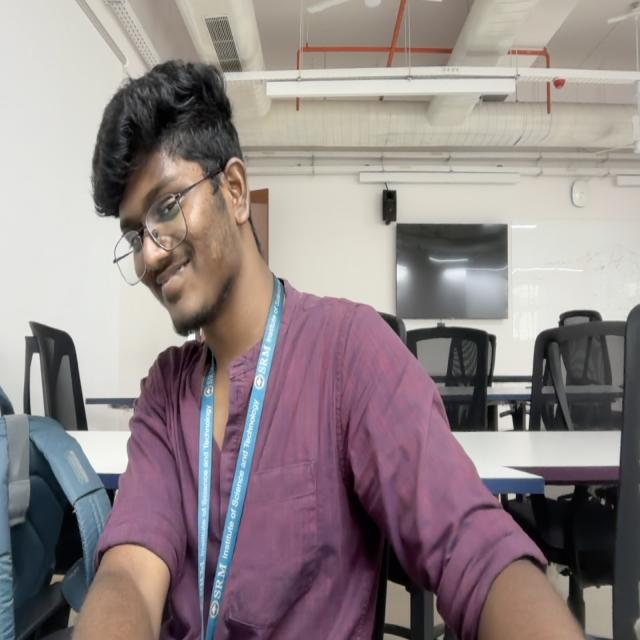ravindra: (88, 68, 269, 334)
